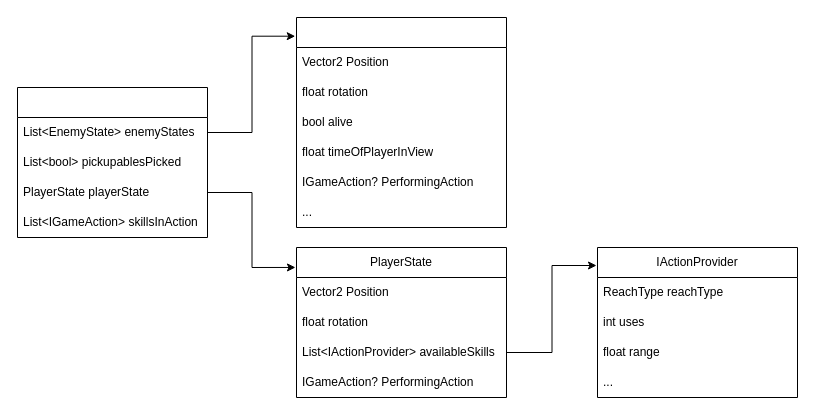
This 815x415 diagram has some shape labels left out. Each missing label, with the box of its shape:
EnemyState: (296, 16, 506, 228)
LevelState: (16, 86, 208, 238)
